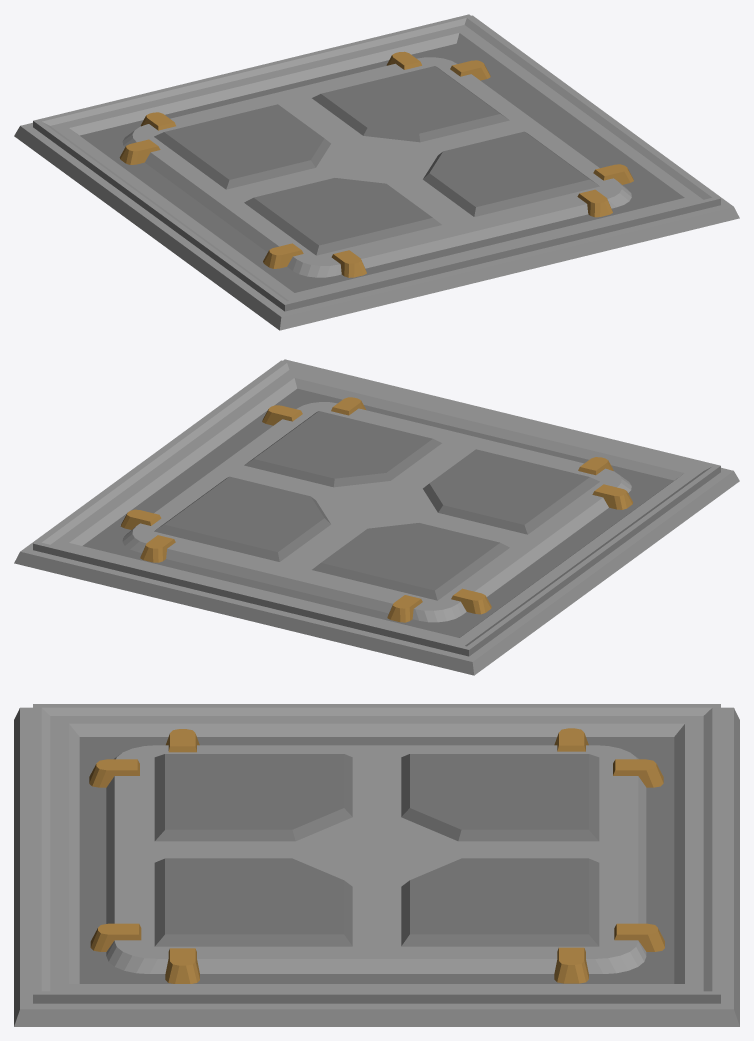
Rendered from RoofTile_Plate2.glb.
3 views of the same model, one above another, from view 1: azimuth 30°, elevation 25°; view 2: azimuth 150°, elevation 25°; view 3: azimuth 270°, elevation 25° (orthographic). The views are drawn at different scales.
Visible parts, largest first — view 1: RoofTile_Plate2; view 2: RoofTile_Plate2; view 3: RoofTile_Plate2.
Boxes of the visible parts, x1,y1,x2,y2 form: RoofTile_Plate2: [14, 14, 739, 330]; RoofTile_Plate2: [14, 359, 739, 675]; RoofTile_Plate2: [14, 704, 739, 1026].
Size of the model in its own units: 2 by 0.0935 by 2.
